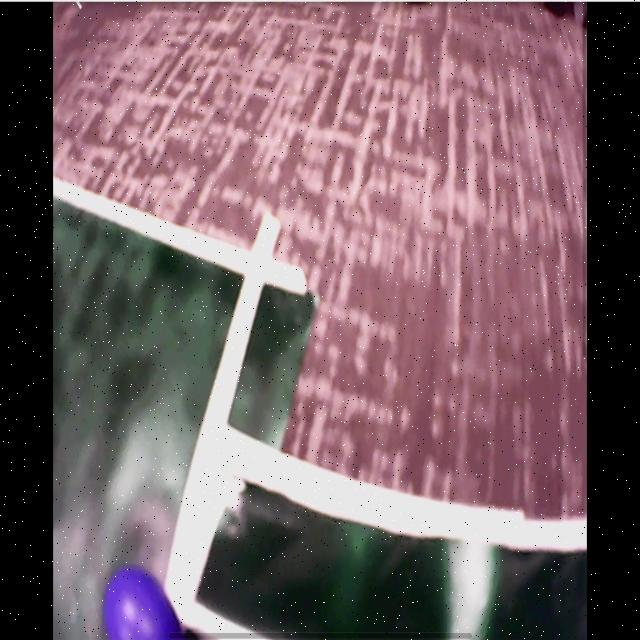ball: (104, 571, 181, 640)
